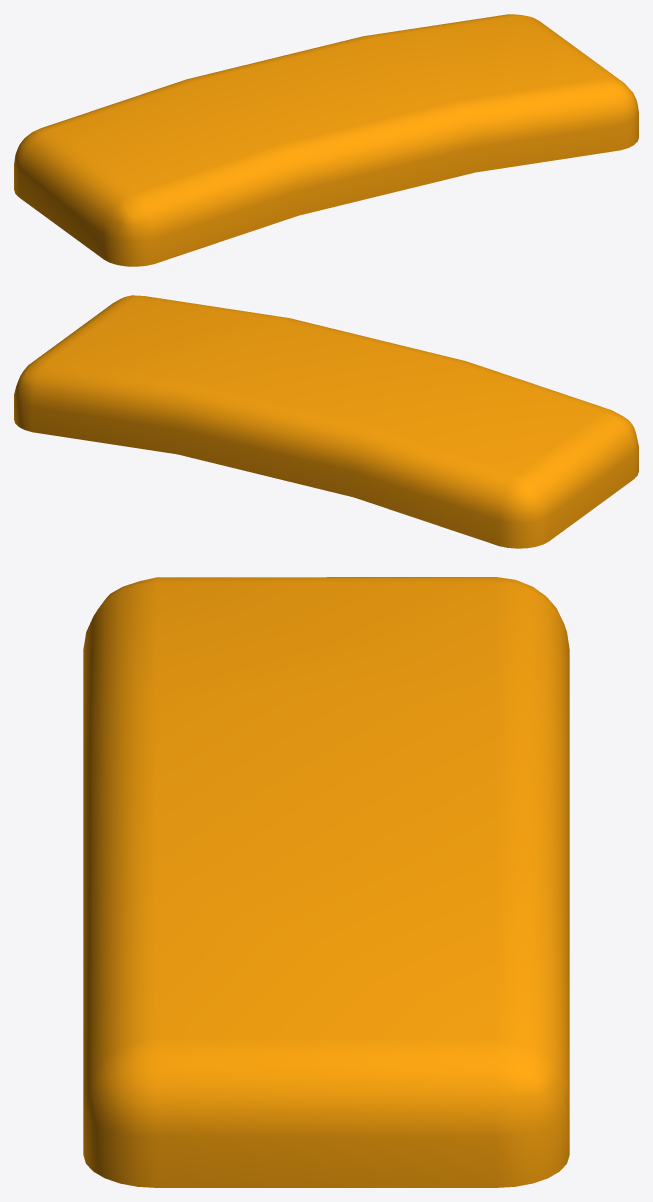
File: atun.fbx
3 views of the same model, one above another, from view 1: azimuth 30°, elevation 25°; view 2: azimuth 150°, elevation 25°; view 3: azimuth 270°, elevation 25° (orthographic). The views are drawn at different scales.
Parts seen in each view (by area): view 1: atun.003; view 2: atun.003; view 3: atun.003.
Part boxes in pixels (bbox=[...]): atun.003: bbox=[14, 14, 638, 266]; atun.003: bbox=[14, 295, 638, 548]; atun.003: bbox=[83, 577, 569, 1187].
Bounding box in the file's own units: 123 × 16.07 × 48.76.
